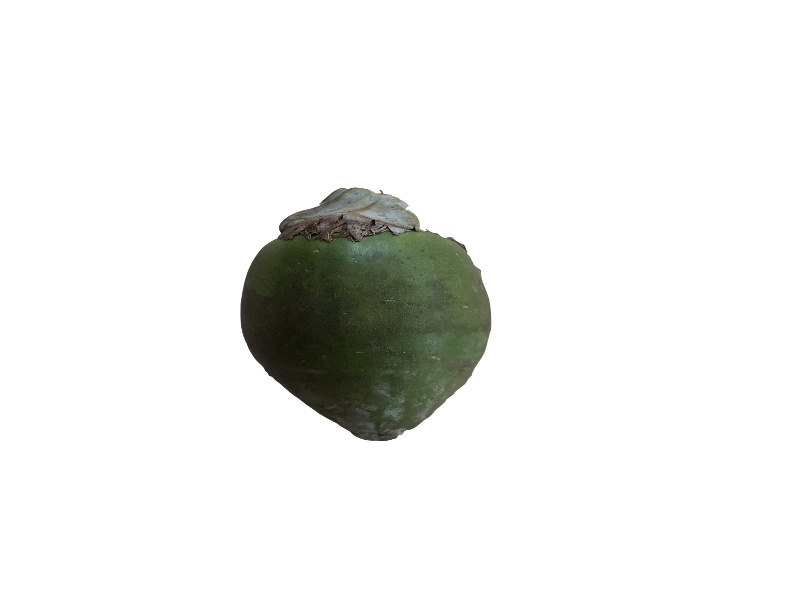arecanut: (236, 186, 503, 447)
